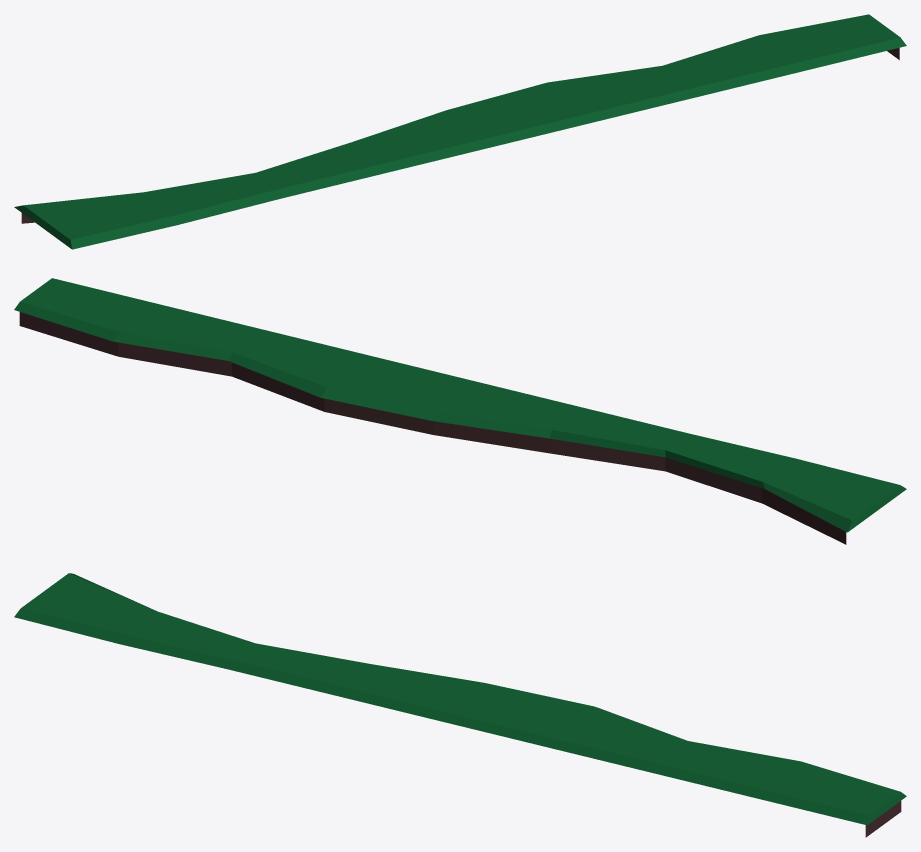
File: SideWall.fbx
3 renders of one model, top to bottom at view 1: azimuth 30°, elevation 25°; view 2: azimuth 150°, elevation 25°; view 3: azimuth 330°, elevation 25°, orthographic. The views are drawn at different scales.
Parts seen in each view (by area): view 1: Cube.040; view 2: Cube.040; view 3: Cube.040.
Part boxes in pixels (box(x1,y1,x2,y2)): Cube.040: box(14, 14, 906, 249); Cube.040: box(14, 278, 906, 544); Cube.040: box(14, 573, 906, 837).
Bounding box in the file's own units: 7353 × 182 × 907.
